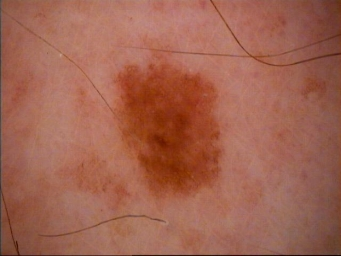nevus: (118, 64, 223, 195)
